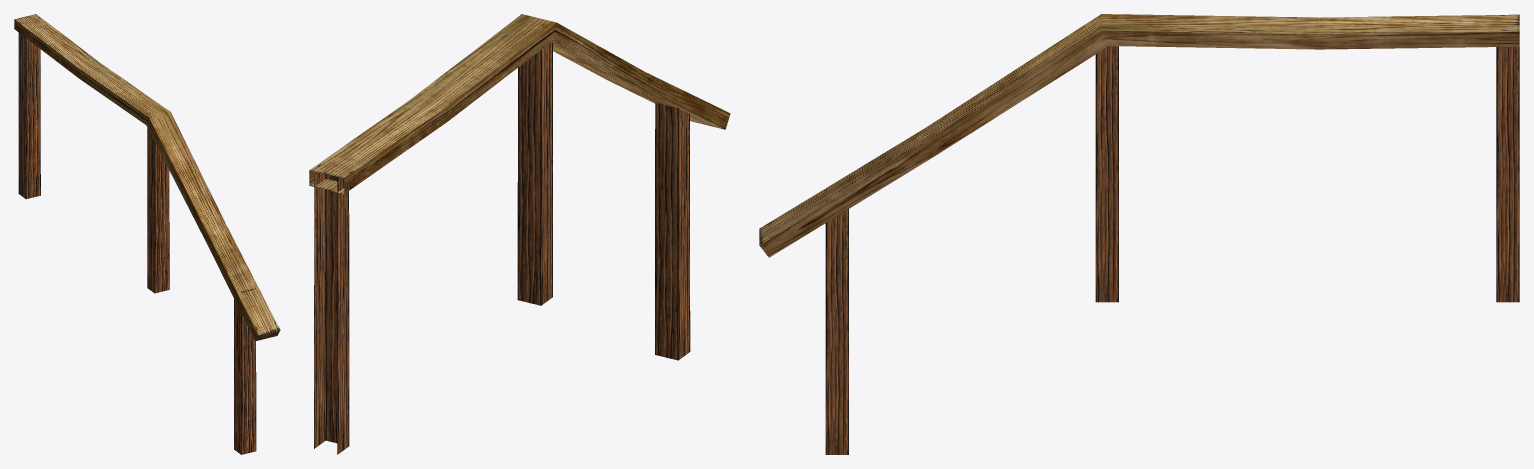
File: LAKETOWN_GENHOUSE1_PS_GH1_HANDRAIL57__GX.fbx
3 renders of one model, left to right at view 1: azimuth 30°, elevation 25°; view 2: azimuth 150°, elevation 25°; view 3: azimuth 270°, elevation 25°, orthographic. The views are drawn at different scales.
Visible parts, largest first — view 1: LAKETOWN_GENHOUSE1_PS_GH1_HANDRAIL57__GX; view 2: LAKETOWN_GENHOUSE1_PS_GH1_HANDRAIL57__GX; view 3: LAKETOWN_GENHOUSE1_PS_GH1_HANDRAIL57__GX.
Boxes of the visible parts, box(x1,y1,x2,y2) form: LAKETOWN_GENHOUSE1_PS_GH1_HANDRAIL57__GX: box(14, 14, 280, 454); LAKETOWN_GENHOUSE1_PS_GH1_HANDRAIL57__GX: box(309, 14, 730, 454); LAKETOWN_GENHOUSE1_PS_GH1_HANDRAIL57__GX: box(759, 14, 1519, 454).
Size of the model in its own units: 1273 by 15061 by 24332.
Materials: 2 (2 with a texture image).
